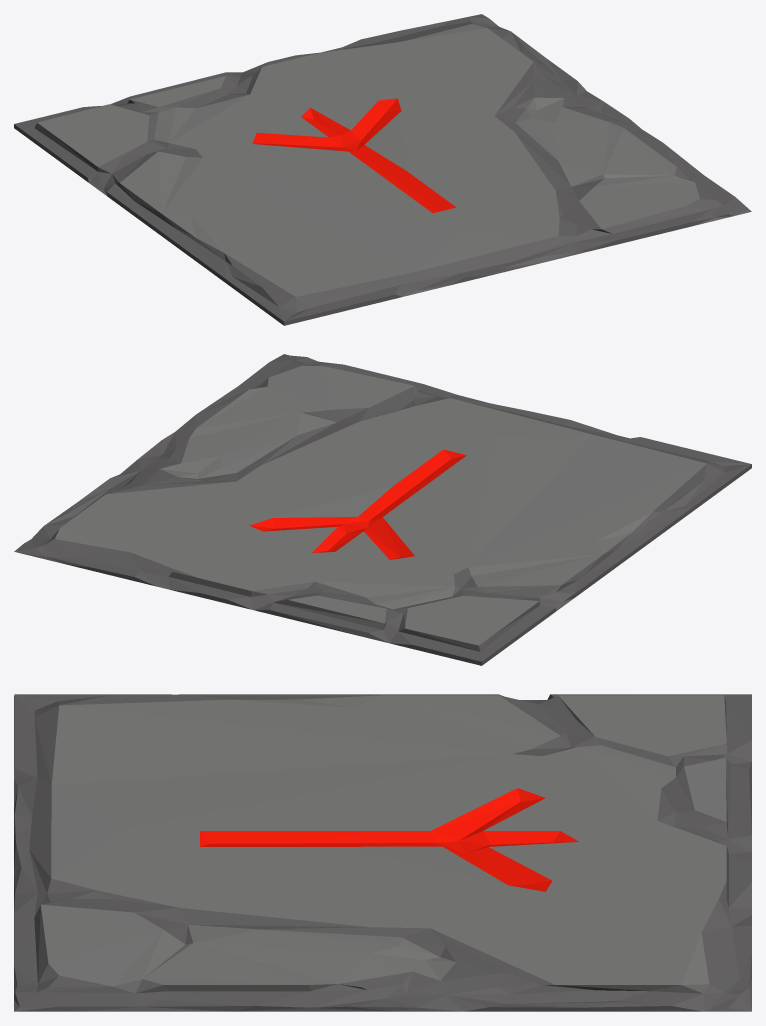
The model's file is SM_Env_Tiles_Rune_02.FBX.
The picture shows the model from 3 angles, top to bottom: view 1: azimuth 30°, elevation 25°; view 2: azimuth 150°, elevation 25°; view 3: azimuth 270°, elevation 25°; orthographic projection. The views are drawn at different scales.
Parts seen in each view (by area): view 1: SM_Env_Tiles_Rune_02; view 2: SM_Env_Tiles_Rune_02; view 3: SM_Env_Tiles_Rune_02.
Boxes of the visible parts, left/top/right/bottom form: SM_Env_Tiles_Rune_02: left=14, top=14, right=751, bottom=325; SM_Env_Tiles_Rune_02: left=14, top=354, right=751, bottom=665; SM_Env_Tiles_Rune_02: left=14, top=694, right=751, bottom=1011.
Size of what is drawn, in the model's own units: 500 by 500 by 10.14.
